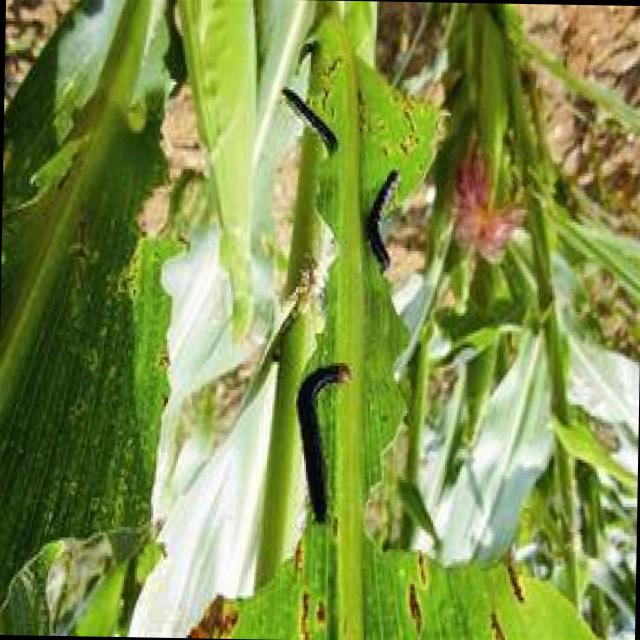pest: (287, 363, 351, 528), (279, 89, 343, 157), (365, 168, 395, 282)
